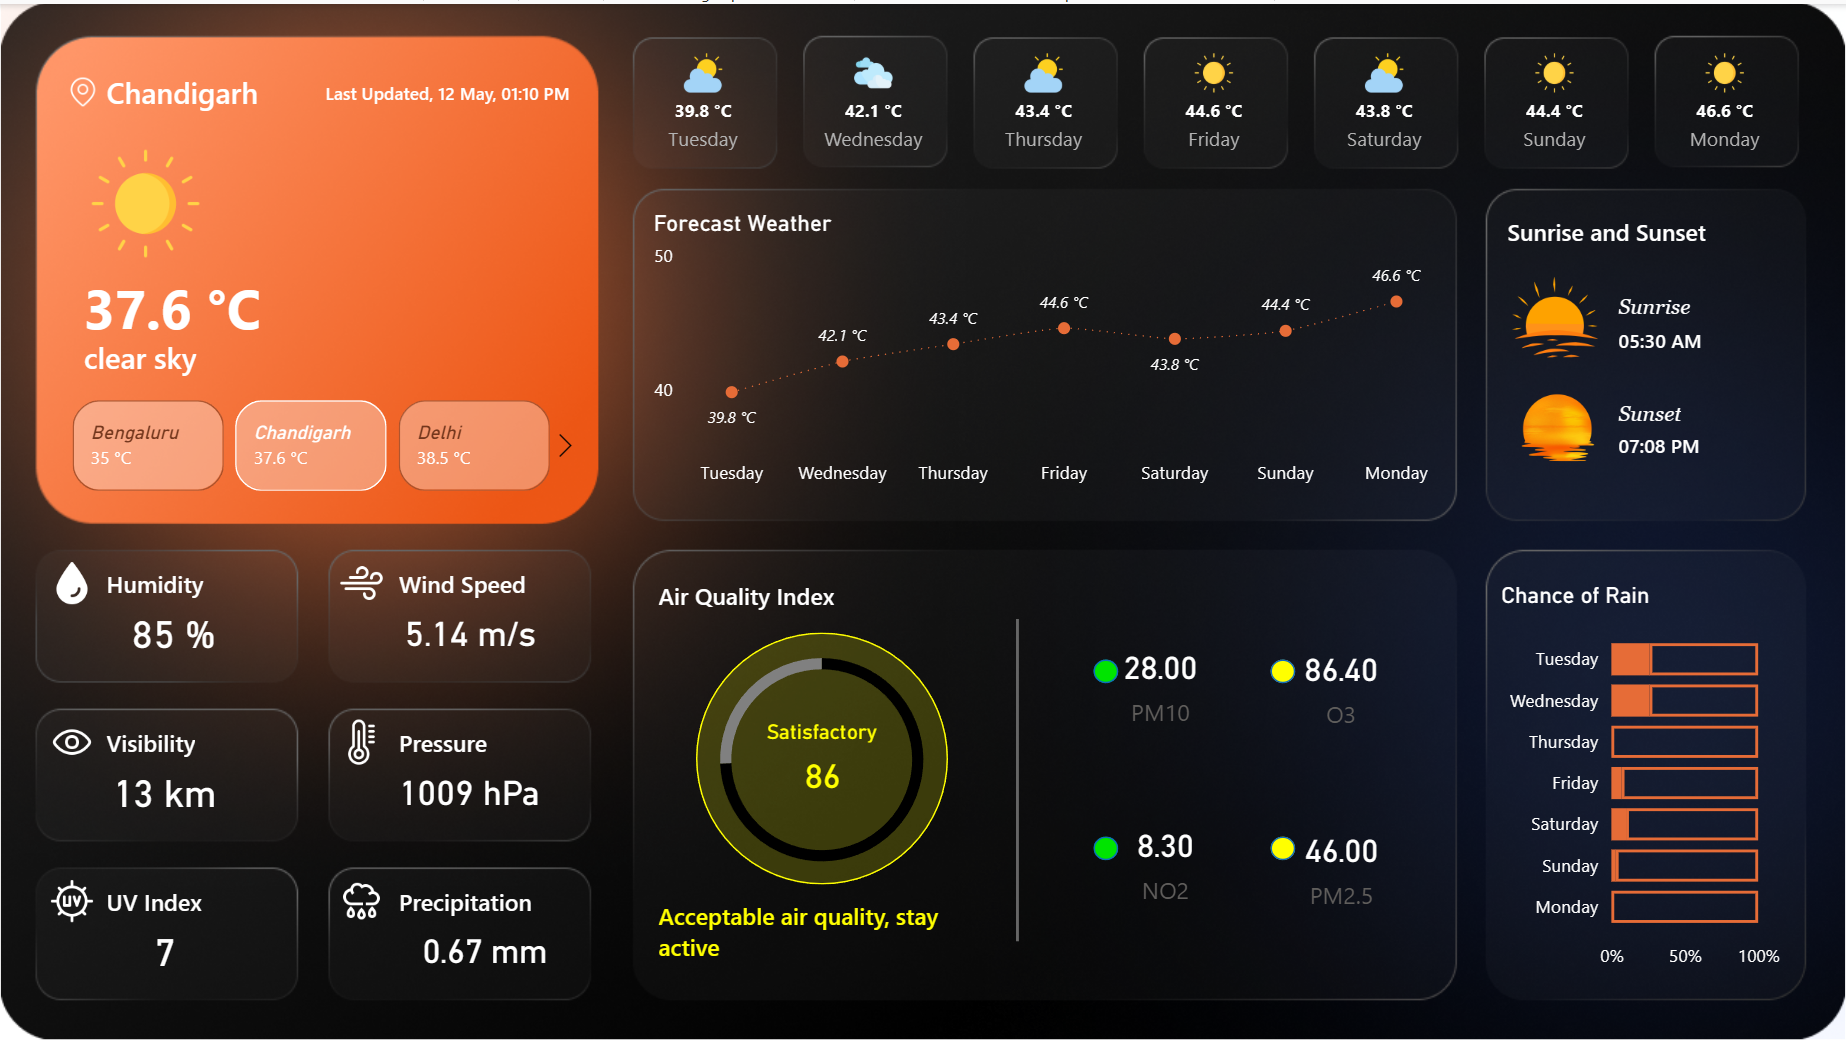

What the dashboard file says about the page in this screenshot:
{"tool":"powerbi","page":{"name":"Page 1","canvas":[1280,720],"ordinal":0},"visuals":[{"type":"shape","box":[482.3,435.5,174.6,174.6],"z":0},{"type":"donutChart","fields":{"Y":["AQIData.MaxValue","AQIData.Indian AQI"]},"box":[456.3,430.3,225.6,186.1],"z":1000},{"type":"shape","box":[58.2,185,155.9,46.8],"z":2000},{"type":"shape","box":[58.2,231.8,242.2,26],"z":3000},{"type":"shape","box":[73.8,41.6,106,40.5],"z":4000},{"type":"image","box":[46.7,50.7,20.7,20],"z":5000},{"type":"multiRowCard","fields":{"Values":["WeatherData.Weather Icon URL"]},"box":[58.2,95.6,90.4,93.6],"z":6000},{"type":"image","box":[32.2,385.6,35.3,31.2],"z":7000},{"type":"image","box":[232.8,385.6,35.3,31.2],"z":8000},{"type":"image","box":[32.2,495.8,35.3,31.2],"z":9000},{"type":"image","box":[232.8,495.8,35.3,31.2],"z":10000},{"type":"image","box":[32.2,606,35.3,31.2],"z":11000},{"type":"image","box":[232.8,606,35.3,31.2],"z":12000},{"type":"shape","box":[73.8,388.8,106,24.9],"z":13000},{"type":"shape","box":[276.5,388.8,106,24.9],"z":14000},{"type":"shape","box":[73.8,498.9,106,24.9],"z":15000},{"type":"shape","box":[276.5,498.9,106,24.9],"z":16000},{"type":"shape","box":[73.8,609.1,106,24.9],"z":17000},{"type":"shape","box":[276.5,609.1,106,24.9],"z":18000},{"type":"card","fields":{"Values":["AQIData.Latest Humidity"]},"box":[73.8,413.7,92.5,43.7],"z":19000},{"type":"card","fields":{"Values":["AQIData.Latest Wind"]},"box":[268.2,413.7,114.3,43.7],"z":20000},{"type":"card","fields":{"Values":["WeatherData.Visibility"]},"box":[67.6,523.9,92.5,43.7],"z":21000},{"type":"card","fields":{"Values":["AQIData.Latest Pressure"]},"box":[257.8,523.9,134.1,43.7],"z":22000},{"type":"card","fields":{"Values":["WeatherData.UV Index"]},"box":[67.6,634.1,92.5,43.7],"z":23000},{"type":"card","fields":{"Values":["WeatherData.Precipitation"]},"box":[276.5,634.1,118.5,43.7],"z":24000},{"type":"advancedSlicerVisual","fields":{"Values":["ForecastData.day_name"]},"box":[427.2,28.1,833.7,91.5],"z":25000},{"type":"lineChart","title":"Forecast Weather","fields":{"Category":["ForecastData.day_name"],"Y":["Avg(ForecastData.temp)"]},"box":[448,142.4,555.1,200.6],"z":26000},{"type":"shape","box":[225.6,47.8,181.9,28.1],"z":27000},{"type":"image","box":[1042,185,72,64],"z":28000},{"type":"shape","box":[1045,142,142,31],"z":29000},{"type":"shape","box":[1122,221,65,22],"z":30000},{"type":"shape","box":[1122,202,56,17],"z":31000},{"type":"image","box":[1042,262.3,76,63],"z":32000},{"type":"shape","box":[1122,273,56,21],"z":33000},{"type":"shape","box":[1122,294,65,22],"z":34000},{"type":"hundredPercentStackedBarChart","title":"Chance of Rain","fields":{"Category":["ForecastData.day_name"],"Y":["ForecastData.Chance of Rain %","ForecastData.Label Position"]},"box":[1035.5,400,202.7,277.3],"z":35000},{"type":"shape","box":[456.3,394,142.4,32.2],"z":36000},{"type":"card","fields":{"Values":["Sum(AQIData.o3)"]},"box":[884,430,91,82],"z":37000},{"type":"card","fields":{"Values":["Sum(AQIData.pm2_5)"]},"box":[889,556,81,81],"z":38000},{"type":"card","fields":{"Values":["Sum(AQIData.no2)"]},"box":[758,553,99,81],"z":39000},{"type":"card","fields":{"Values":["Sum(AQIData.pm10)"]},"box":[758,430,92,79],"z":40000},{"type":"shape","box":[757.9,454.3,17.1,16.4],"z":41000},{"type":"shape","box":[880.7,454.3,17.1,16.4],"z":42000},{"type":"shape","box":[757.9,577.1,17.1,16.4],"z":43000},{"type":"shape","box":[880.7,577.1,17.1,16.4],"z":44000},{"type":"shape","box":[651.7,426.7,106.7,223.3],"z":45000},{"type":"card","fields":{"Values":["AQIData.Indian AQI"]},"box":[523.9,495.8,91.5,61.3],"z":46000},{"type":"shape","box":[456.3,617.4,233.9,48.9],"z":47000},{"type":"advancedSlicerVisual","fields":{"Values":["CityList.city"]},"box":[24.9,269.2,382.5,73.8],"z":48000}]}

Visuals, with their boxes in screenshot pixels (x1, y1, x2, y2), scaled from the page's 1280x720 canvas onto the 1846x1042 screenshot:
shape: Rect(696, 630, 947, 883)
donutChart - AQIData.MaxValue x AQIData.Indian AQI: Rect(658, 623, 983, 892)
shape: Rect(84, 268, 309, 335)
shape: Rect(84, 335, 433, 373)
shape: Rect(106, 60, 259, 119)
image: Rect(67, 73, 97, 102)
multiRowCard - WeatherData.Weather Icon URL: Rect(84, 138, 214, 274)
image: Rect(46, 558, 97, 603)
image: Rect(336, 558, 387, 603)
image: Rect(46, 718, 97, 763)
image: Rect(336, 718, 387, 763)
image: Rect(46, 877, 97, 922)
image: Rect(336, 877, 387, 922)
shape: Rect(106, 563, 259, 599)
shape: Rect(399, 563, 552, 599)
shape: Rect(106, 722, 259, 758)
shape: Rect(399, 722, 552, 758)
shape: Rect(106, 882, 259, 918)
shape: Rect(399, 882, 552, 918)
card - AQIData.Latest Humidity: Rect(106, 599, 240, 662)
card - AQIData.Latest Wind: Rect(387, 599, 552, 662)
card - WeatherData.Visibility: Rect(97, 758, 231, 821)
card - AQIData.Latest Pressure: Rect(372, 758, 565, 821)
card - WeatherData.UV Index: Rect(97, 918, 231, 981)
card - WeatherData.Precipitation: Rect(399, 918, 570, 981)
advancedSlicerVisual - ForecastData.day_name: Rect(616, 41, 1818, 173)
"Forecast Weather" lineChart: Rect(646, 206, 1447, 496)
shape: Rect(325, 69, 588, 110)
image: Rect(1503, 268, 1607, 360)
shape: Rect(1507, 206, 1712, 250)
shape: Rect(1618, 320, 1712, 352)
shape: Rect(1618, 292, 1699, 317)
image: Rect(1503, 380, 1612, 471)
shape: Rect(1618, 395, 1699, 425)
shape: Rect(1618, 425, 1712, 457)
"Chance of Rain" hundredPercentStackedBarChart: Rect(1493, 579, 1786, 980)
shape: Rect(658, 570, 863, 617)
card - Sum(AQIData.o3): Rect(1275, 622, 1406, 741)
card - Sum(AQIData.pm2_5): Rect(1282, 805, 1399, 922)
card - Sum(AQIData.no2): Rect(1093, 800, 1236, 918)
card - Sum(AQIData.pm10): Rect(1093, 622, 1226, 737)
shape: Rect(1093, 657, 1118, 681)
shape: Rect(1270, 657, 1295, 681)
shape: Rect(1093, 835, 1118, 859)
shape: Rect(1270, 835, 1295, 859)
shape: Rect(940, 618, 1094, 941)
card - AQIData.Indian AQI: Rect(756, 718, 888, 806)
shape: Rect(658, 894, 995, 964)
advancedSlicerVisual - CityList.city: Rect(36, 390, 588, 496)
